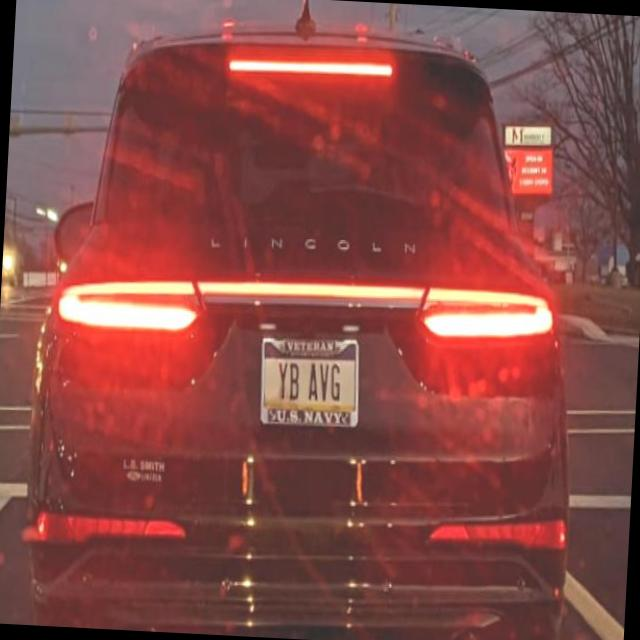LicensePlate: (258, 336, 358, 428)
